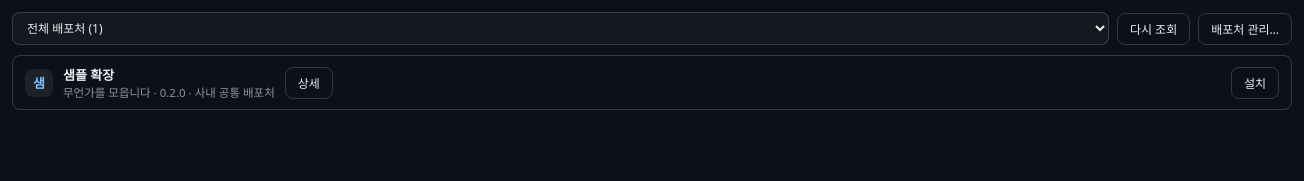
Test: 내려받아 설치 › 알림의 이름·버전은 배포처가 아니라 설치 결과에서 온다
Click the button "설치": (1255, 82) [1231,66,1279,98]
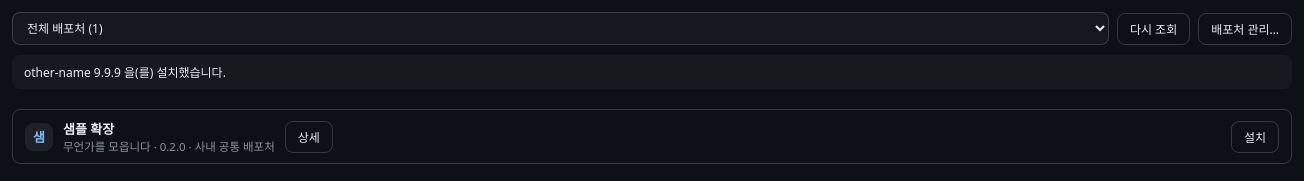
Result: the text "other-name 9.9.9 을(를) 설치했습니다." is shown at [12,55,1292,89]
